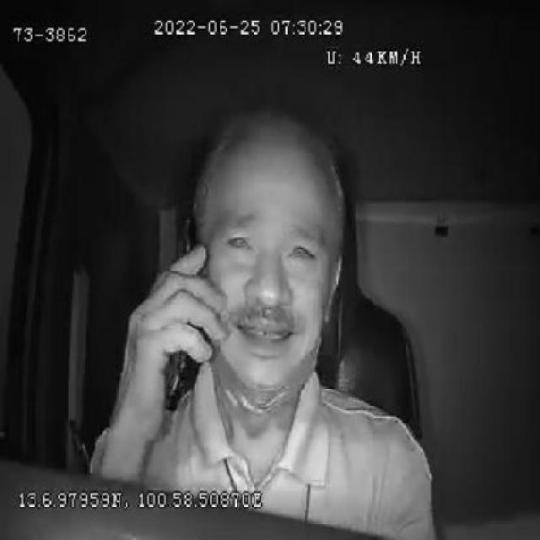phone: (166, 213, 204, 410)
